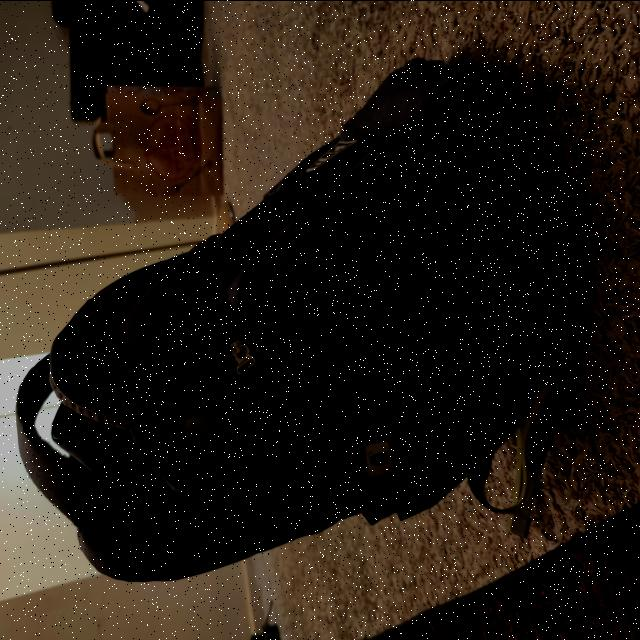bag: (14, 62, 554, 554)
